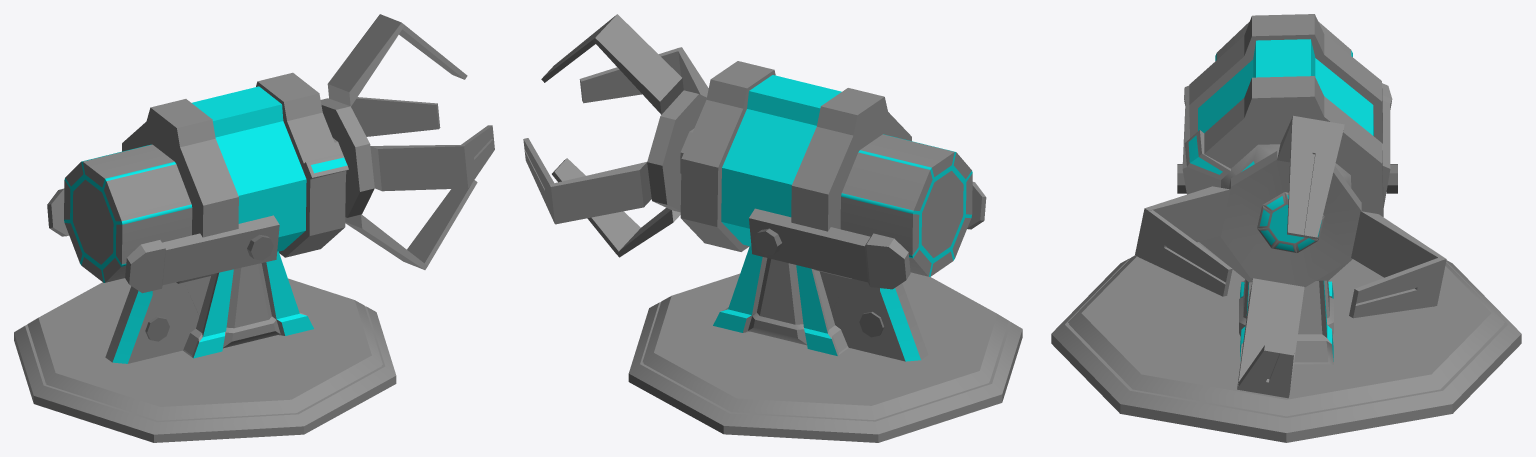
File: BlackHoleGen.fbx
3 views of the same model, side by side, from view 1: azimuth 30°, elevation 25°; view 2: azimuth 150°, elevation 25°; view 3: azimuth 270°, elevation 25° (orthographic). The views are drawn at different scales.
Visible parts, largest first — view 1: pCylinder9, pCylinder3, pCube23, pCube14, pCylinder4, pCylinder8; view 2: pCylinder9, pCylinder3, pCube23, pCube14, pCylinder5, pCylinder7; view 3: pCylinder3, pCube23, pCylinder9, pCube14.
Part boxes in pixels (bbox=[...]): pCylinder9: bbox=[64, 72, 348, 363]; pCylinder3: bbox=[14, 278, 396, 442]; pCube23: bbox=[320, 14, 494, 269]; pCube14: bbox=[47, 188, 69, 236]; pCylinder4: bbox=[247, 234, 273, 260]; pCylinder8: bbox=[145, 316, 169, 341]; pCylinder9: bbox=[680, 61, 986, 361]; pCylinder3: bbox=[628, 272, 1022, 442]; pCube23: bbox=[523, 14, 708, 257]; pCube14: bbox=[749, 208, 910, 289]; pCylinder5: bbox=[754, 228, 781, 255]; pCylinder7: bbox=[859, 311, 883, 337]; pCylinder3: bbox=[1051, 242, 1521, 442]; pCube23: bbox=[1135, 115, 1446, 398]; pCylinder9: bbox=[1182, 14, 1383, 364]; pCube14: bbox=[1382, 83, 1392, 207].
Bounding box in the file's own units: 413 × 262 × 326.
